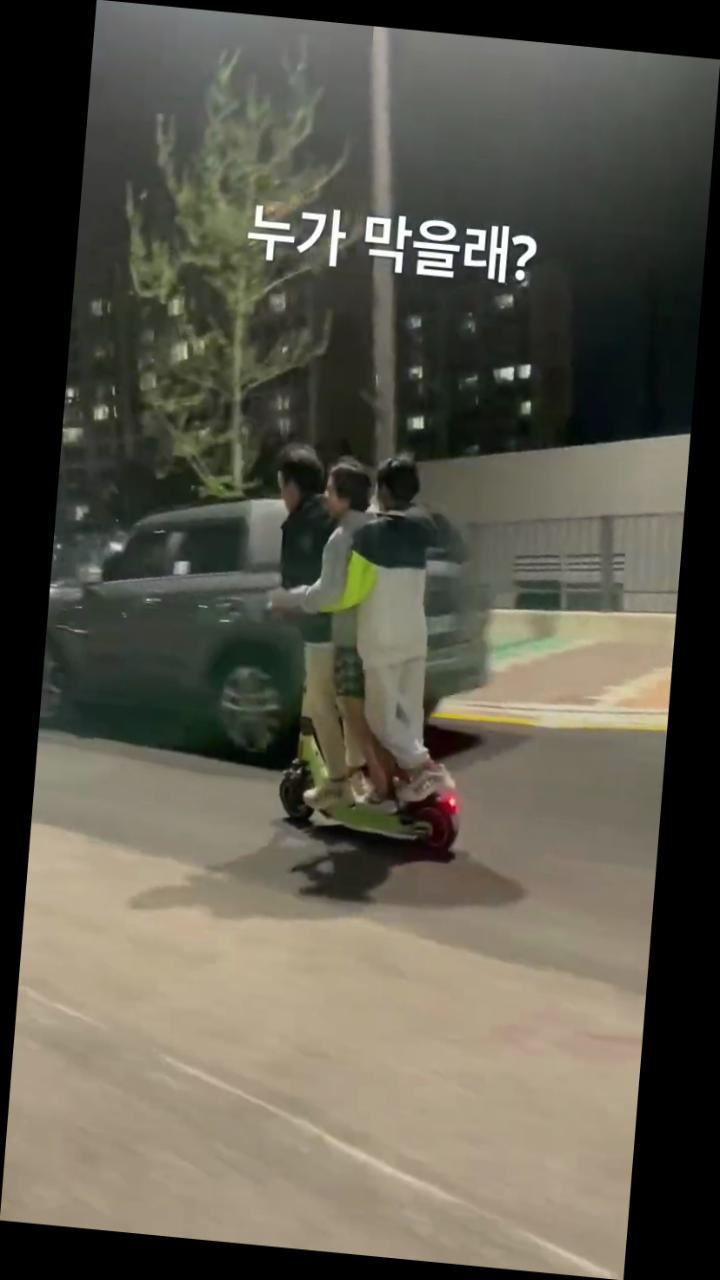multiple: (236, 435, 504, 865)
